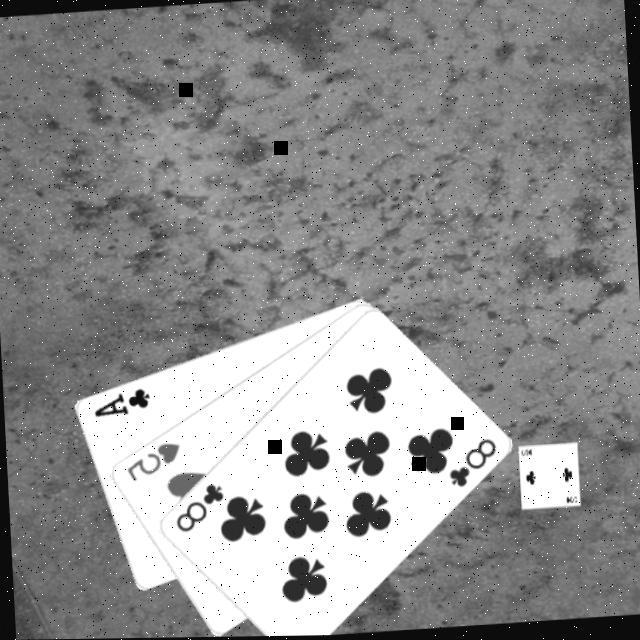5H: (124, 440, 186, 487)
8C: (444, 436, 503, 494), (172, 480, 231, 537)
AC: (91, 385, 155, 421)
